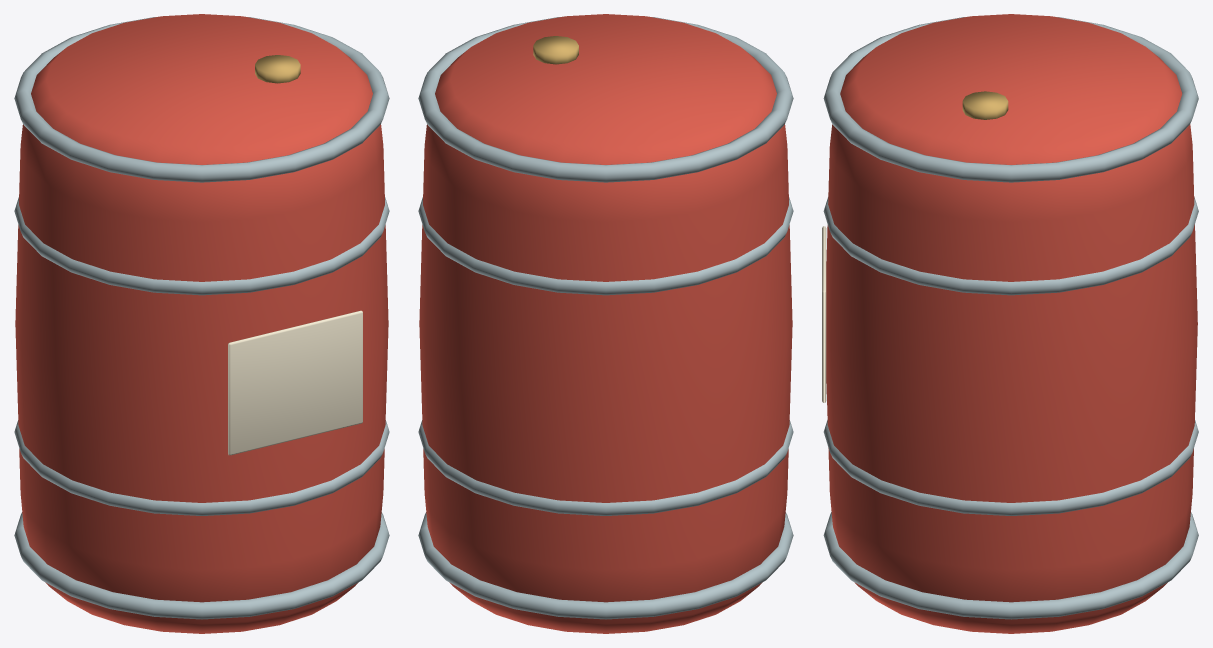
File: barrel.glb
The picture shows the model from 3 angles, left to right: view 1: azimuth 30°, elevation 25°; view 2: azimuth 150°, elevation 25°; view 3: azimuth 270°, elevation 25°; orthographic projection.
Parts seen in each view (by area): view 1: barrel_Paint, barrel_Aluminium, barrel_Ivory, barrel_Brass; view 2: barrel_Paint, barrel_Aluminium, barrel_Brass; view 3: barrel_Paint, barrel_Aluminium, barrel_Brass, barrel_Ivory.
Part boxes in pixels (x1,y1,x2,y2): barrel_Paint: [15, 14, 388, 633]; barrel_Aluminium: [14, 17, 389, 619]; barrel_Ivory: [228, 310, 362, 455]; barrel_Brass: [255, 55, 300, 83]; barrel_Paint: [419, 14, 792, 633]; barrel_Aluminium: [418, 17, 793, 619]; barrel_Brass: [533, 36, 578, 64]; barrel_Paint: [826, 14, 1197, 633]; barrel_Aluminium: [823, 17, 1198, 619]; barrel_Brass: [962, 91, 1008, 119]; barrel_Ivory: [822, 226, 826, 402].
Bounding box in the file's own units: 0.724 × 1.06 × 0.727.
